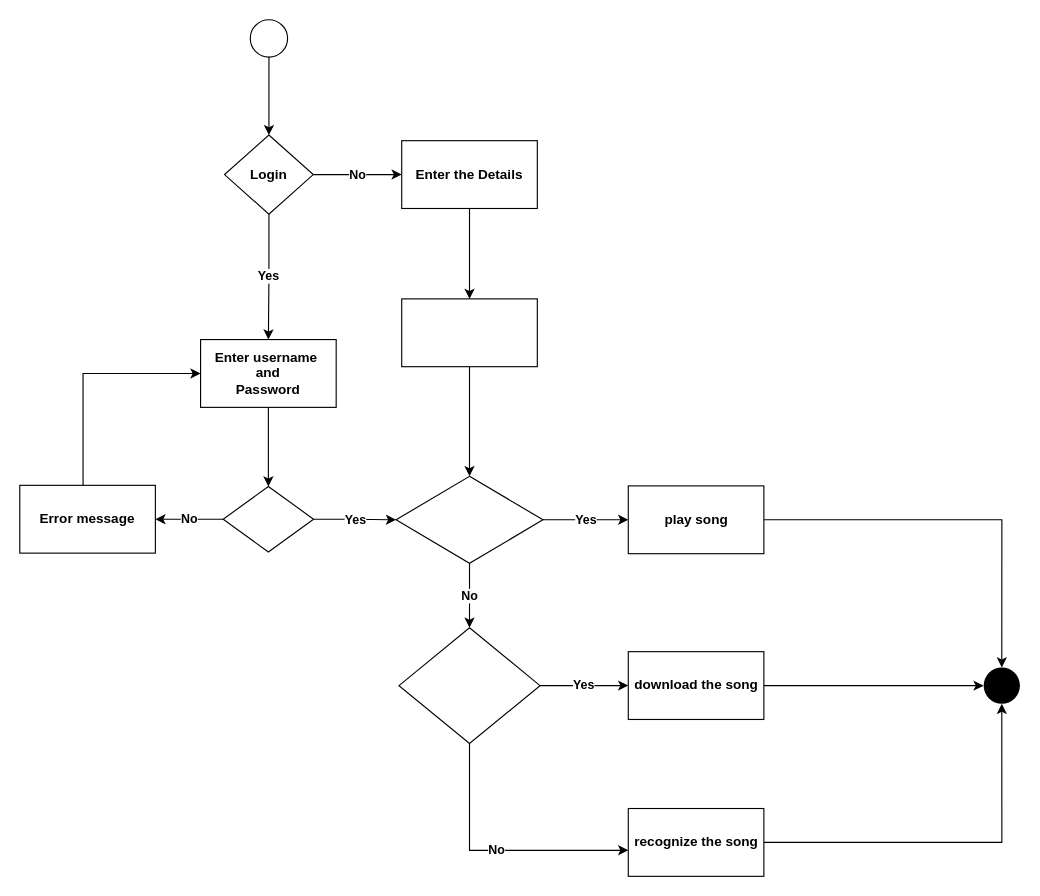
Image size: 1040x896. Some labels were removed from this diagram. The shapes that lost their labels are listed below. From the top down, each one's centre as x and y in pixels, then its label:
At point (469, 332): "Successfull signup".
At point (268, 518): "Valid".
At point (469, 519): "Select music player".
At point (469, 685): "select downloader".
